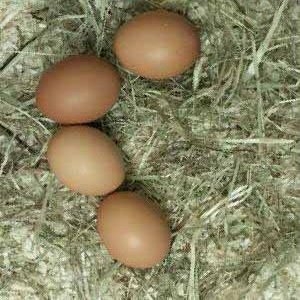egg: (112, 10, 201, 80), (35, 56, 121, 124), (45, 127, 129, 195), (98, 194, 173, 268)
